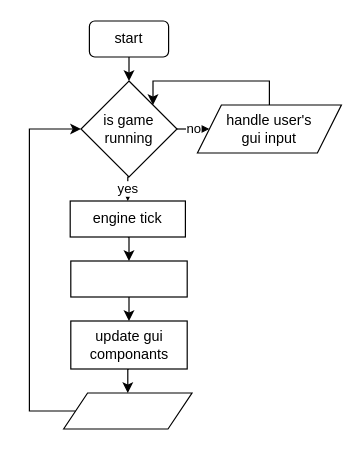
This 362x450 diagram has some shape labels left out. Here are the shapes that lost their labels. From the top down, the centre of each, then its label:
point (128, 278): do game logic
point (127, 410): refresh gui
